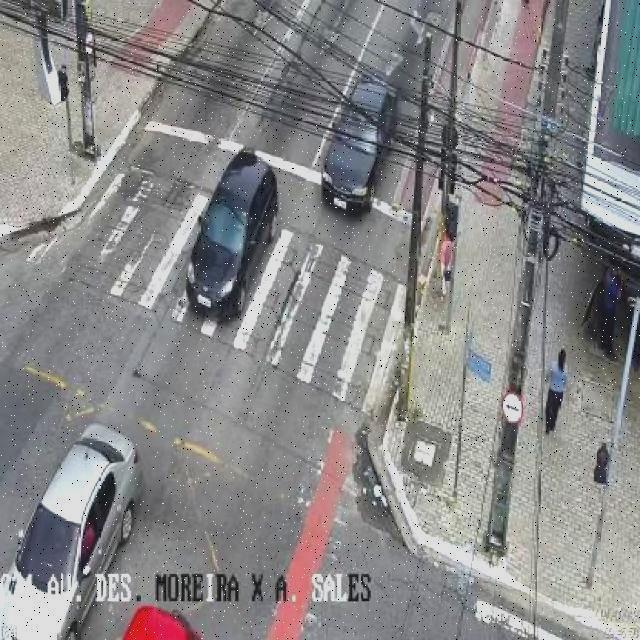Car: (0, 410, 149, 639), (187, 139, 288, 344), (316, 59, 402, 227)
